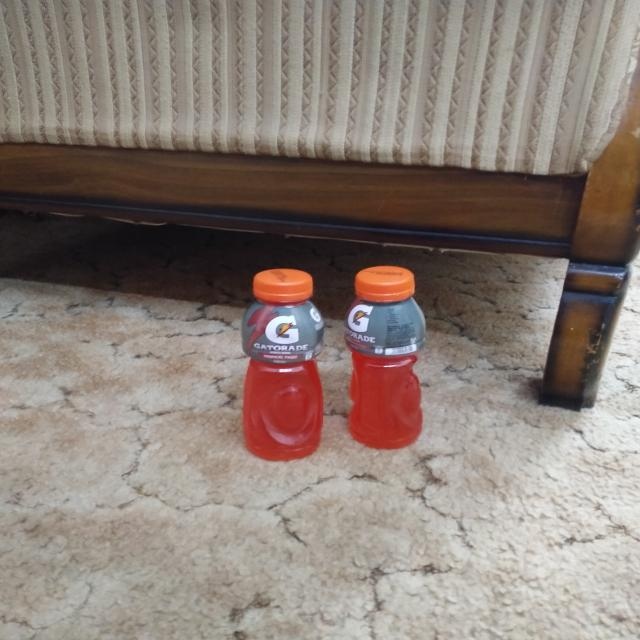Plastic: (240, 266, 326, 461), (348, 261, 427, 451)
